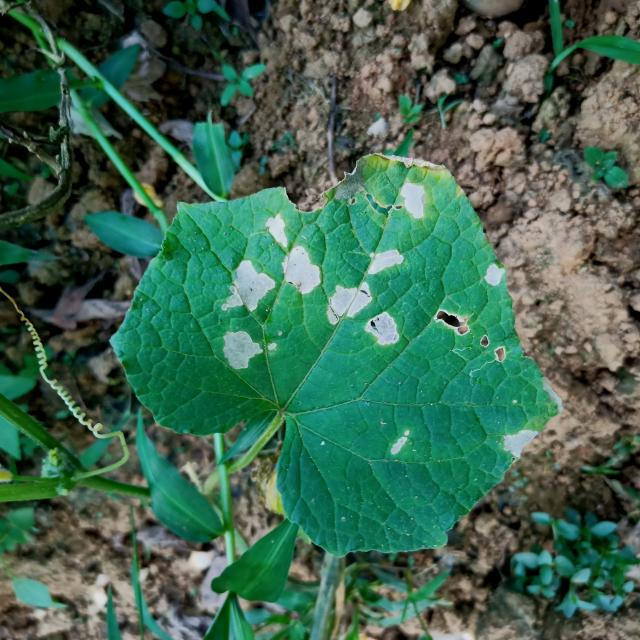disease_cucumber: (264, 215, 322, 296), (329, 281, 399, 345), (436, 308, 508, 366), (221, 260, 277, 314), (221, 329, 279, 369), (502, 428, 538, 460), (401, 183, 426, 221), (368, 250, 404, 276), (391, 429, 411, 456), (485, 264, 504, 289)
